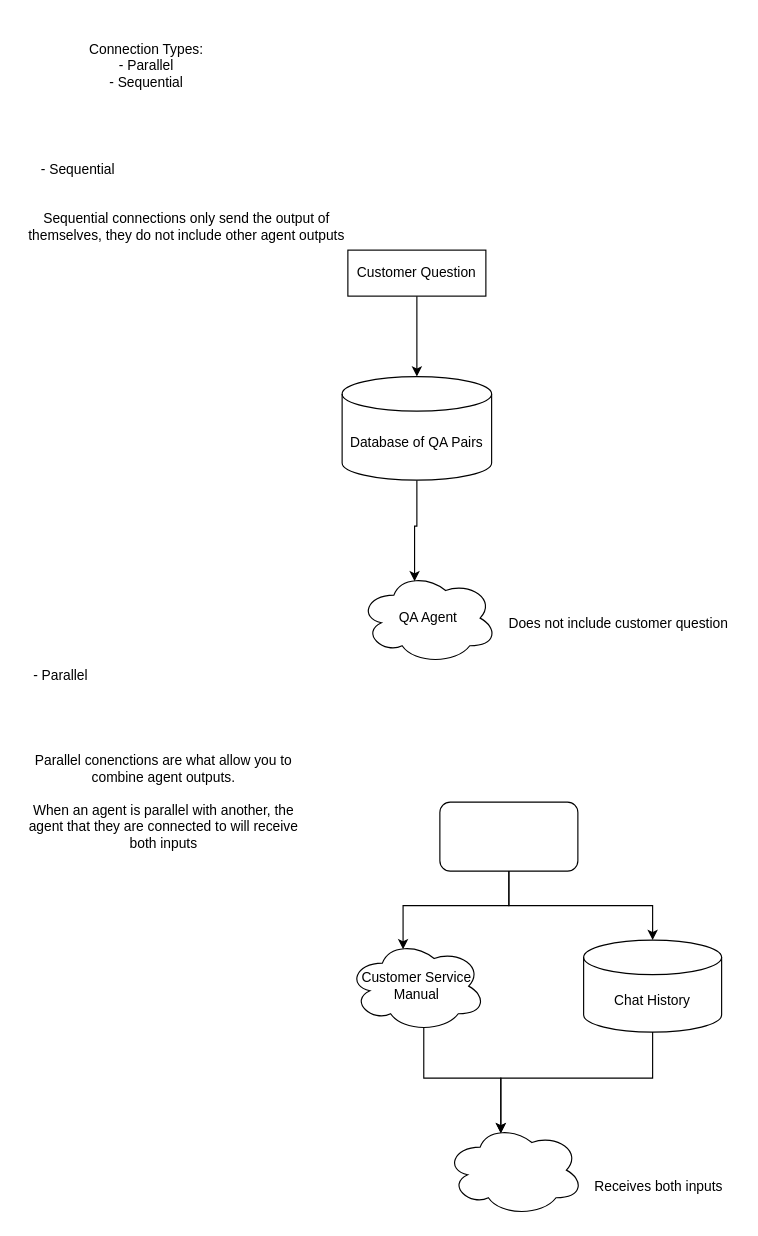
This 758x1236 diagram has some shape labels left out. Each missing label, with the centre of its shape:
Customer Service agent: (514,1169)
User that needs help: (508,836)
